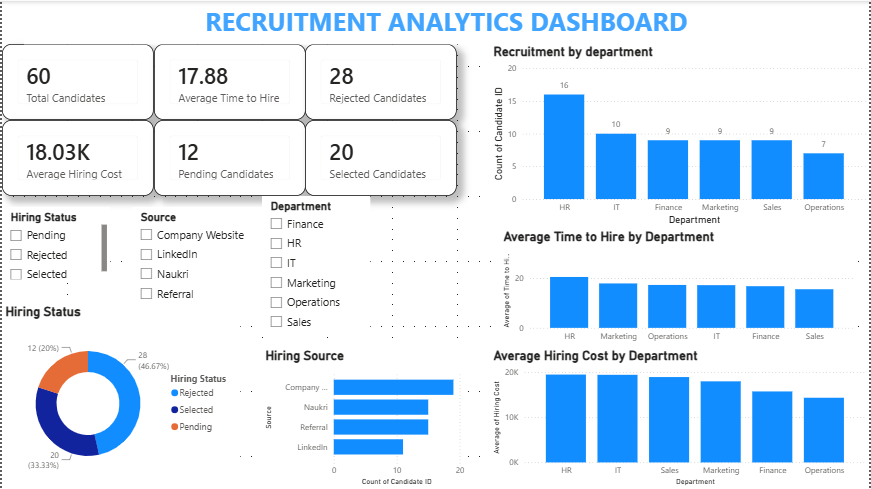

The page's visual inventory and layout, read from the dashboard file:
{"tool":"powerbi","page":{"name":"Recruitment dashboard","canvas":[1280,720],"ordinal":1},"visuals":[{"type":"cardVisual","fields":{"Data":["Satisfaction.Total Candidates"]},"box":[0,64,224,112],"z":0},{"type":"cardVisual","fields":{"Data":["Satisfaction.Average Time to Hire"]},"box":[224,64,224,112],"z":1000},{"type":"cardVisual","fields":{"Data":["Satisfaction.Average Hiring Cost"]},"box":[0,176,224,112],"z":2000},{"type":"cardVisual","fields":{"Data":["Satisfaction.Pending Candidates"]},"box":[224,176,224,112],"z":3000},{"type":"cardVisual","fields":{"Data":["Satisfaction.Rejected Candidates"]},"box":[448,64,224,112],"z":4000},{"type":"cardVisual","fields":{"Data":["Satisfaction.Selected Candidates"]},"box":[448,176,224,112],"z":5000},{"type":"clusteredColumnChart","title":"Recruitment by department","fields":{"Y":["CountNonNull(Recruitment.Candidate ID)"],"Category":["Recruitment.Department"]},"box":[720,64,560,272],"z":6000},{"type":"donutChart","title":"Hiring Status","fields":{"Category":["Recruitment.Hiring Status"],"Y":["CountNonNull(Recruitment.Candidate ID)"]},"box":[0,448,352,272],"z":7000},{"type":"clusteredBarChart","title":"Hiring Source","fields":{"Category":["Recruitment.Source"],"Y":["CountNonNull(Recruitment.Candidate ID)"]},"box":[384,512,304,208],"z":8000},{"type":"clusteredColumnChart","title":"Average Hiring Cost by Department","fields":{"Y":["Avg(Recruitment.Hiring Cost)"],"Category":["Recruitment.Department"]},"box":[720,512,560,208],"z":9000},{"type":"clusteredColumnChart","title":"Average Time to Hire by Department","fields":{"Y":["Avg(Recruitment.Time to Hire)"],"Category":["Recruitment.Department"]},"box":[736,336,528,176],"z":10000},{"type":"slicer","fields":{"Values":["Recruitment.Department"]},"box":[384,288,160,208],"z":11000},{"type":"slicer","fields":{"Values":["Recruitment.Hiring Status"]},"box":[0,304,160,112],"z":12000},{"type":"slicer","fields":{"Values":["Recruitment.Source"]},"box":[192,304,192,160],"z":13000},{"type":"textbox","box":[32,0,1248,64],"z":14000}]}

Visuals, with their boxes in screenshot pixels (x1, y1, x2, y2), scaled from the page's 1280x720 canvas onto the 871x489 screenshot:
cardVisual - Satisfaction.Total Candidates: bbox=[0, 43, 152, 120]
cardVisual - Satisfaction.Average Time to Hire: bbox=[152, 43, 305, 120]
cardVisual - Satisfaction.Average Hiring Cost: bbox=[0, 120, 152, 196]
cardVisual - Satisfaction.Pending Candidates: bbox=[152, 120, 305, 196]
cardVisual - Satisfaction.Rejected Candidates: bbox=[305, 43, 457, 120]
cardVisual - Satisfaction.Selected Candidates: bbox=[305, 120, 457, 196]
"Recruitment by department" clusteredColumnChart: bbox=[490, 43, 870, 228]
"Hiring Status" donutChart: bbox=[0, 304, 240, 488]
"Hiring Source" clusteredBarChart: bbox=[261, 348, 468, 488]
"Average Hiring Cost by Department" clusteredColumnChart: bbox=[490, 348, 870, 488]
"Average Time to Hire by Department" clusteredColumnChart: bbox=[501, 228, 860, 348]
slicer - Recruitment.Department: bbox=[261, 196, 370, 337]
slicer - Recruitment.Hiring Status: bbox=[0, 206, 109, 283]
slicer - Recruitment.Source: bbox=[131, 206, 261, 315]
textbox: bbox=[22, 0, 870, 43]
